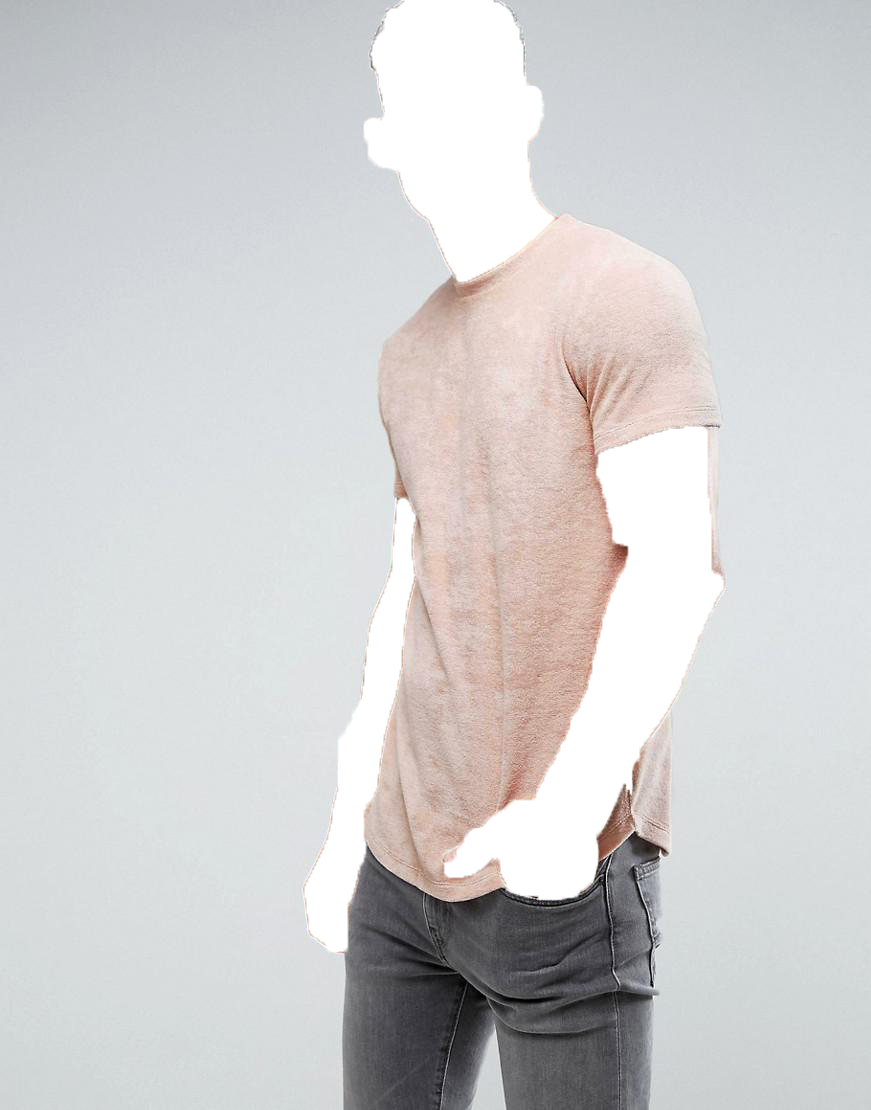teeshirt: (354, 215, 744, 896)
